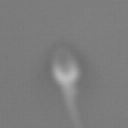normal: (57, 84, 88, 128)
